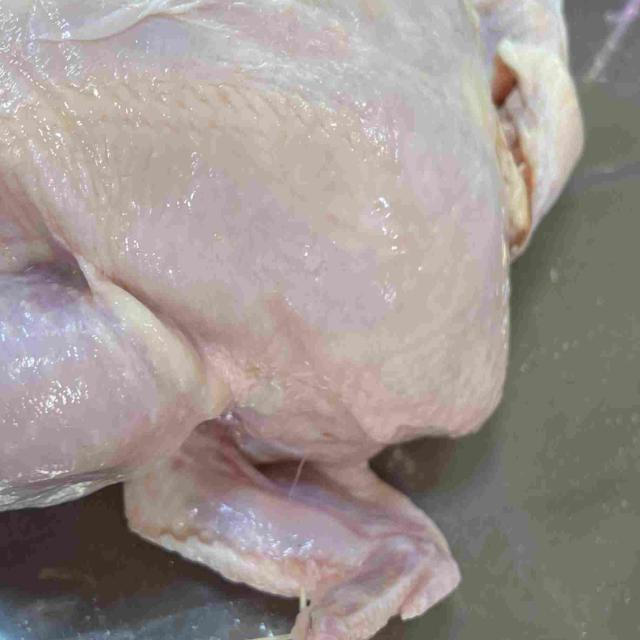leg: (0, 262, 202, 514)
wing: (124, 406, 461, 640)
